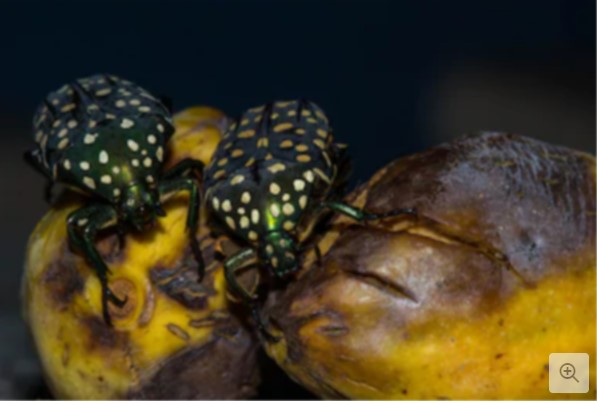Protaetia_niveoguttata: (21, 64, 199, 322), (201, 90, 365, 304)
